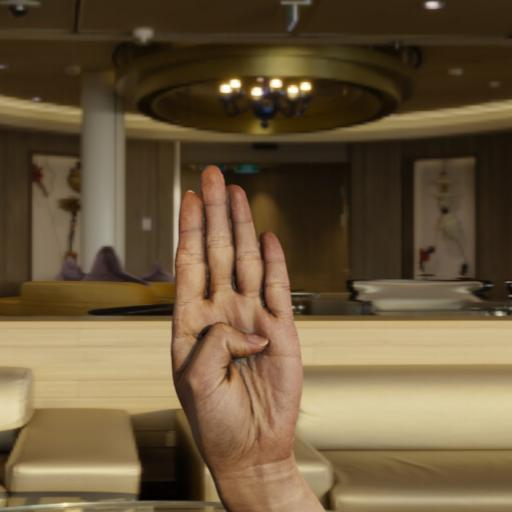B: (139, 132, 391, 503)
